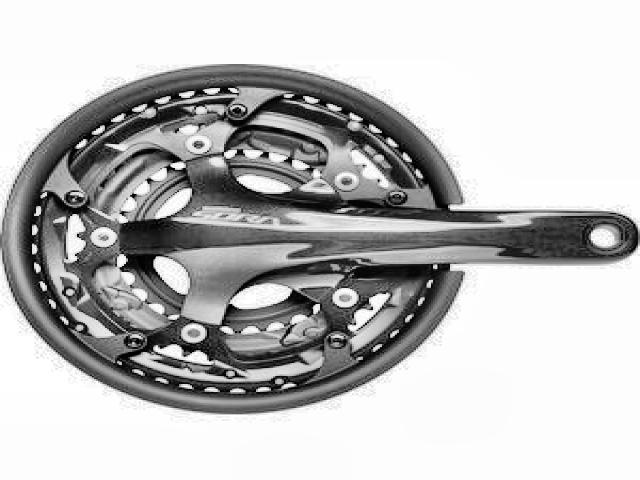cranks_set: (0, 61, 640, 416)
